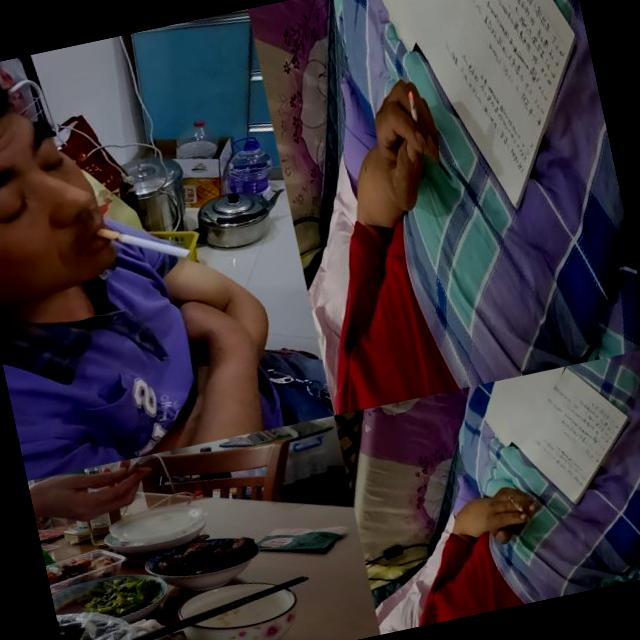smoke: (93, 211, 191, 275), (117, 448, 183, 482), (405, 89, 423, 144), (508, 492, 532, 524)
